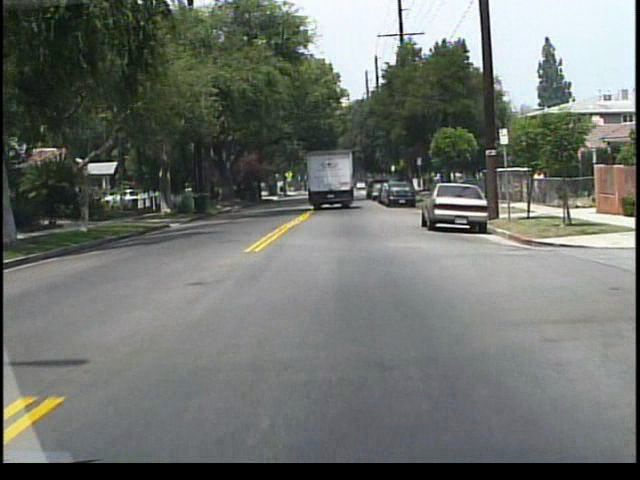person: (530, 165, 546, 202)
